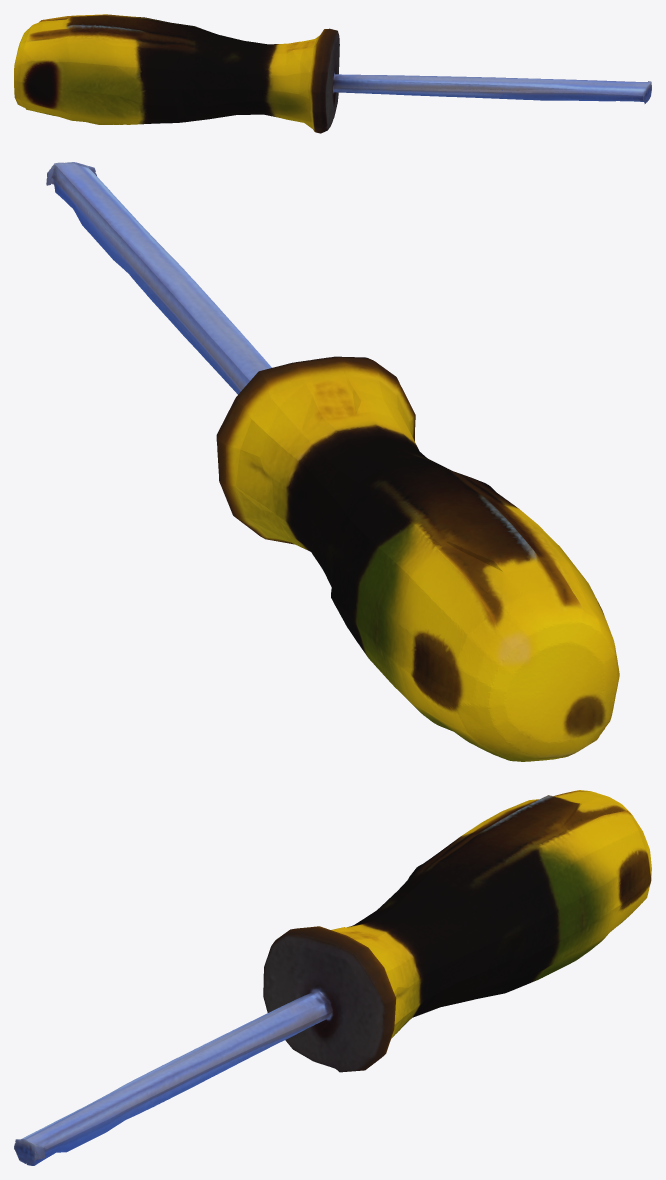
Rendered from obj08_baseline.glb.
The picture shows the model from 3 angles, top to bottom: view 1: azimuth 30°, elevation 25°; view 2: azimuth 150°, elevation 25°; view 3: azimuth 270°, elevation 25°; orthographic projection. The views are drawn at different scales.
Visible parts, largest first — view 1: n1; view 2: n1; view 3: n1.
Boxes of the visible parts, left/top/right/bottom form: n1: left=14, top=14, right=651, bottom=133; n1: left=46, top=162, right=619, bottom=761; n1: left=14, top=790, right=651, bottom=1165.
Bounding box in the file's own units: 0.8564 × 0.1747 × 0.6802.
